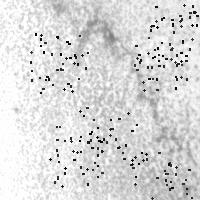pitted_surface: (5, 1, 200, 197), (79, 107, 138, 167), (134, 29, 191, 89), (30, 33, 87, 92), (49, 126, 101, 185), (150, 4, 200, 64), (134, 152, 191, 200)
